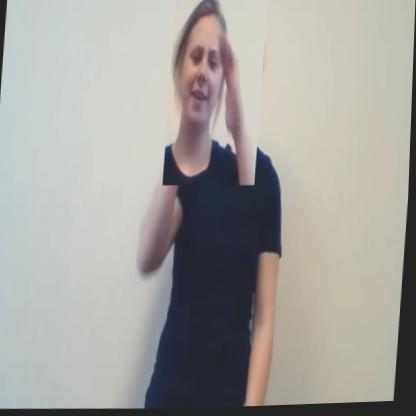Hello: (165, 0, 268, 190)
